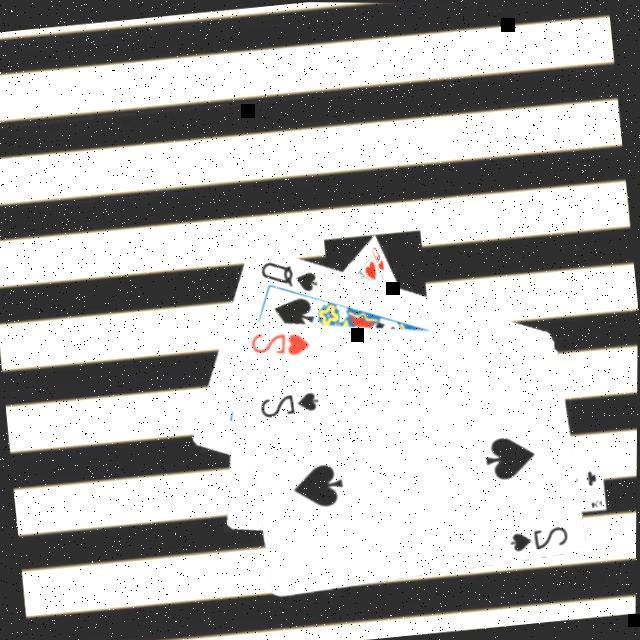2H: (246, 324, 314, 363)
2S: (256, 388, 324, 423), (505, 521, 573, 556)
QS: (256, 254, 322, 300)
